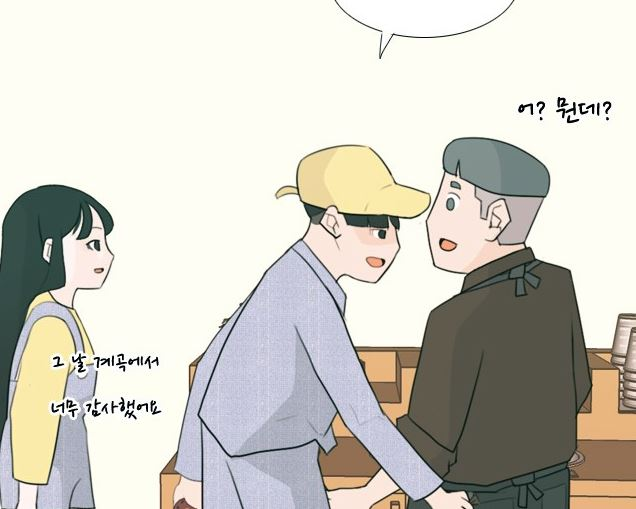hat: (297, 144, 432, 217)
